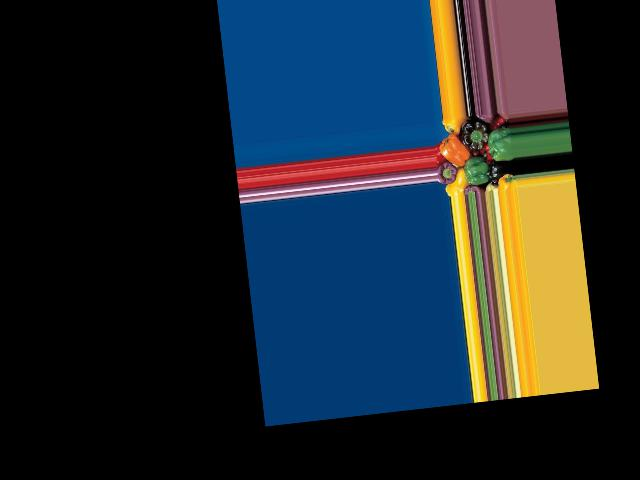bell_pepper: (489, 125, 514, 161)
